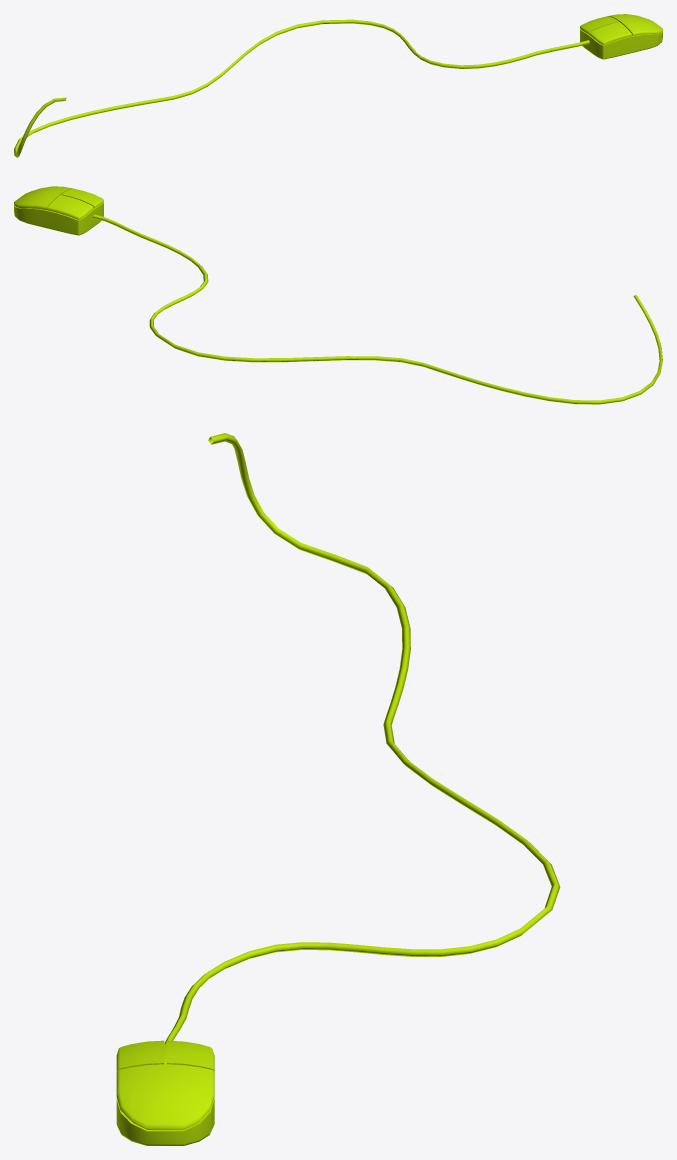
Rendered from computerMouse-model.fbx.
3 renders of one model, top to bottom at view 1: azimuth 30°, elevation 25°; view 2: azimuth 150°, elevation 25°; view 3: azimuth 270°, elevation 25°, orthographic. The views are drawn at different scales.
Visible parts, largest first — view 1: mouse cable, mouse; view 2: mouse cable, mouse; view 3: mouse, mouse cable.
Boxes of the visible parts, box(x1,y1,x2,y2) form: mouse cable: box(14, 19, 589, 157); mouse: box(580, 14, 662, 59); mouse cable: box(93, 214, 662, 404); mouse: box(14, 186, 103, 235); mouse: box(116, 1040, 214, 1145); mouse cable: box(164, 433, 560, 1043).
Bounding box in the file's own units: 0.6702 × 0.0745 × 0.2087.
